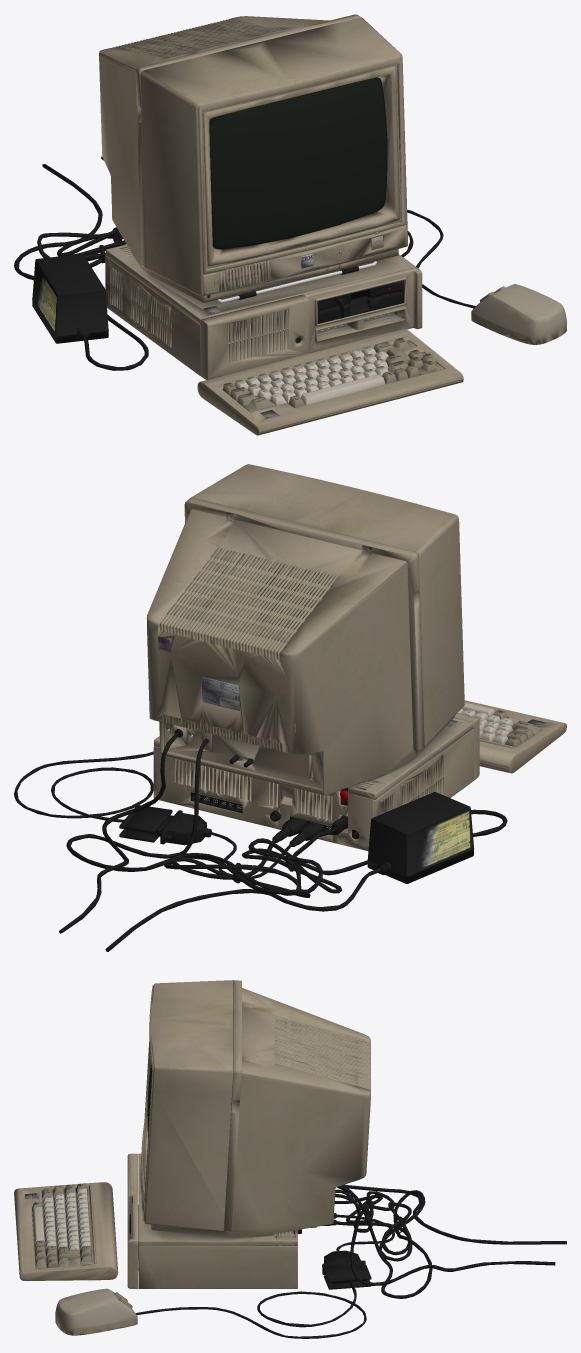
The model's file is ibm-pcjr.glb.
3 views of the same model, one above another, from view 1: azimuth 30°, elevation 25°; view 2: azimuth 150°, elevation 25°; view 3: azimuth 270°, elevation 25° (orthographic). The views are drawn at different scales.
Visible parts, largest first — view 1: fee; view 2: fee; view 3: fee.
Boxes of the visible parts, box(x1,y1,x2,y2) form: fee: box(14, 14, 566, 435); fee: box(14, 464, 566, 951); fee: box(14, 980, 566, 1338).
Size of the model in its own units: 667 by 420 by 941.
7 materials, 7 textured.
